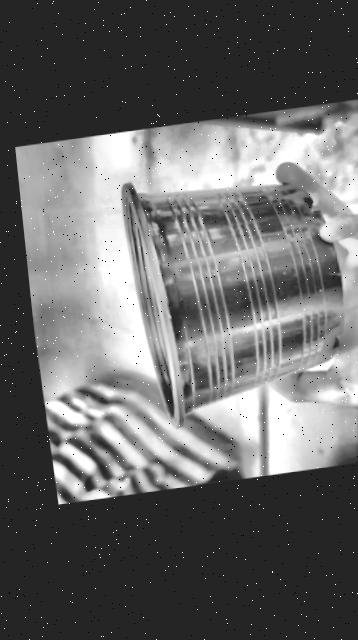pot: (121, 184, 343, 426)
